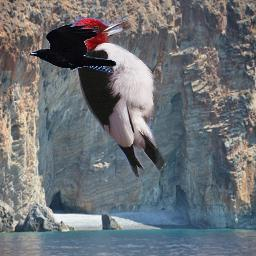Crow: (28, 24, 117, 73)
Woodpecker: (69, 17, 168, 177)
